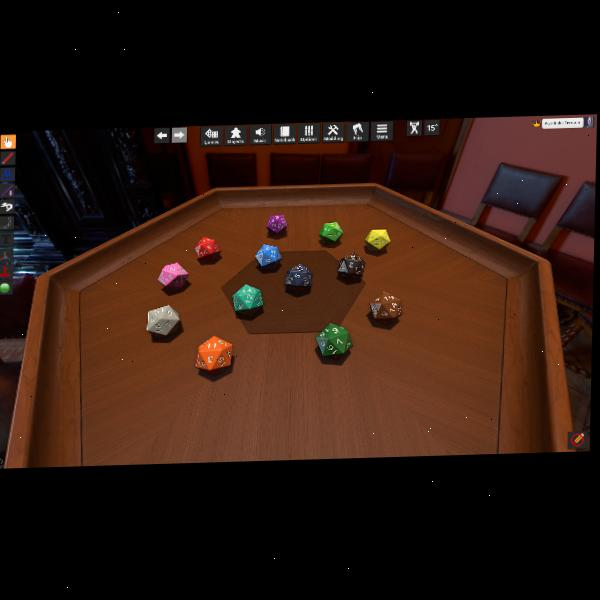d20: (194, 333, 232, 372), (311, 323, 347, 359), (147, 304, 181, 336), (369, 291, 401, 324), (231, 284, 264, 315), (158, 262, 190, 291), (254, 242, 282, 269), (337, 253, 363, 280), (195, 236, 220, 260), (284, 264, 309, 288), (365, 227, 390, 250), (319, 222, 340, 244), (267, 214, 287, 235)
